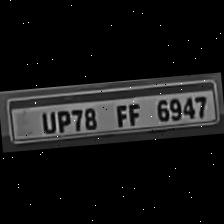4: (175, 91, 192, 118)
6: (156, 94, 176, 122)
7: (190, 92, 210, 117), (68, 104, 86, 130)
8: (82, 98, 100, 130)
9: (166, 93, 186, 120)
F: (110, 98, 128, 127), (125, 98, 144, 124)
P: (52, 105, 74, 132)
U: (36, 106, 58, 132)
